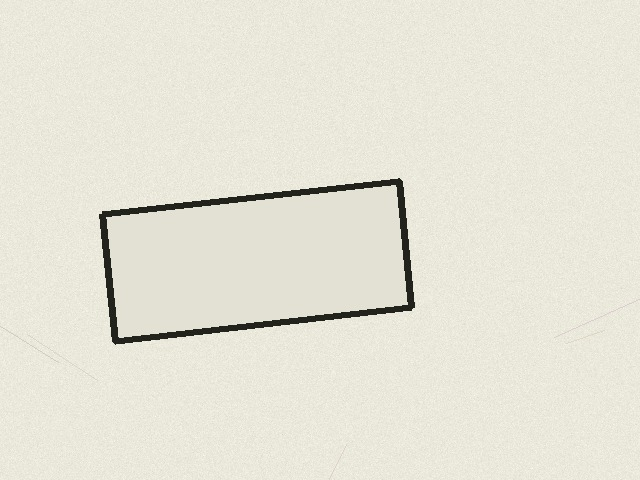parking_area: (102, 181, 411, 341)
